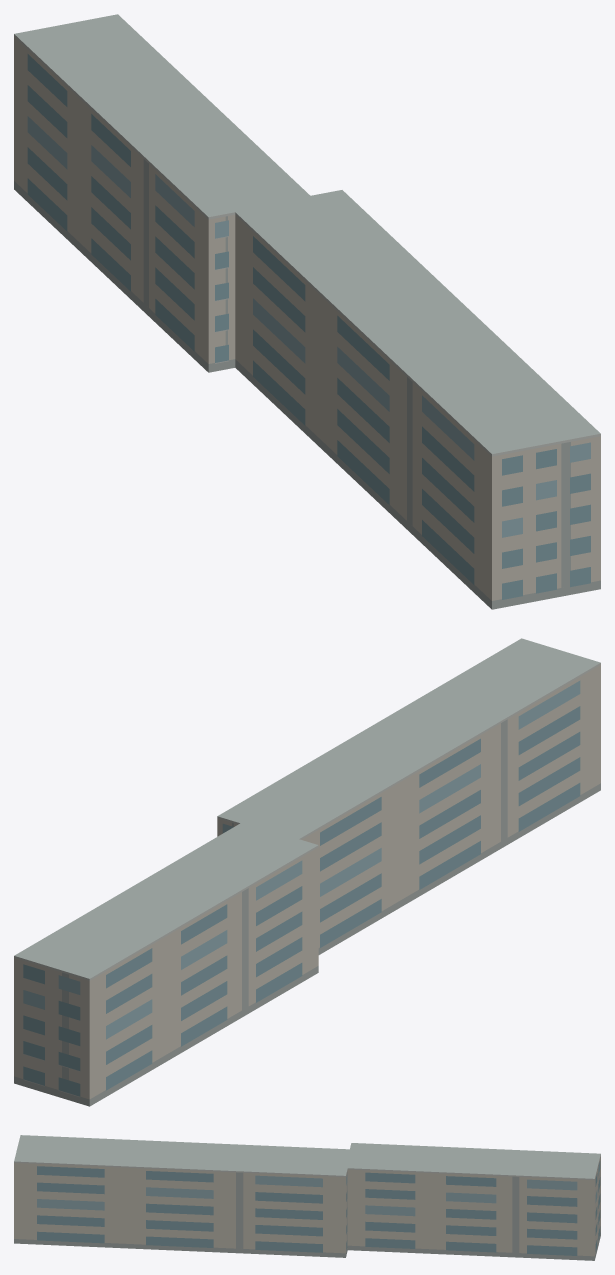
Rendered from survey-upis-32812378.glb.
3 renders of one model, top to bottom at view 1: azimuth 30°, elevation 25°; view 2: azimuth 150°, elevation 25°; view 3: azimuth 270°, elevation 25°, orthographic. The views are drawn at different scales.
Visible parts, largest first — view 1: survey-upis-32812378.tmp; view 2: survey-upis-32812378.tmp; view 3: survey-upis-32812378.tmp.
Part boxes in pixels (box(x1,y1,x2,y2)): survey-upis-32812378.tmp: box(14, 14, 600, 609); survey-upis-32812378.tmp: box(14, 638, 600, 1106); survey-upis-32812378.tmp: box(14, 1135, 600, 1260).
Bounding box in the file's own units: 17.49 × 15.25 × 98.92.
